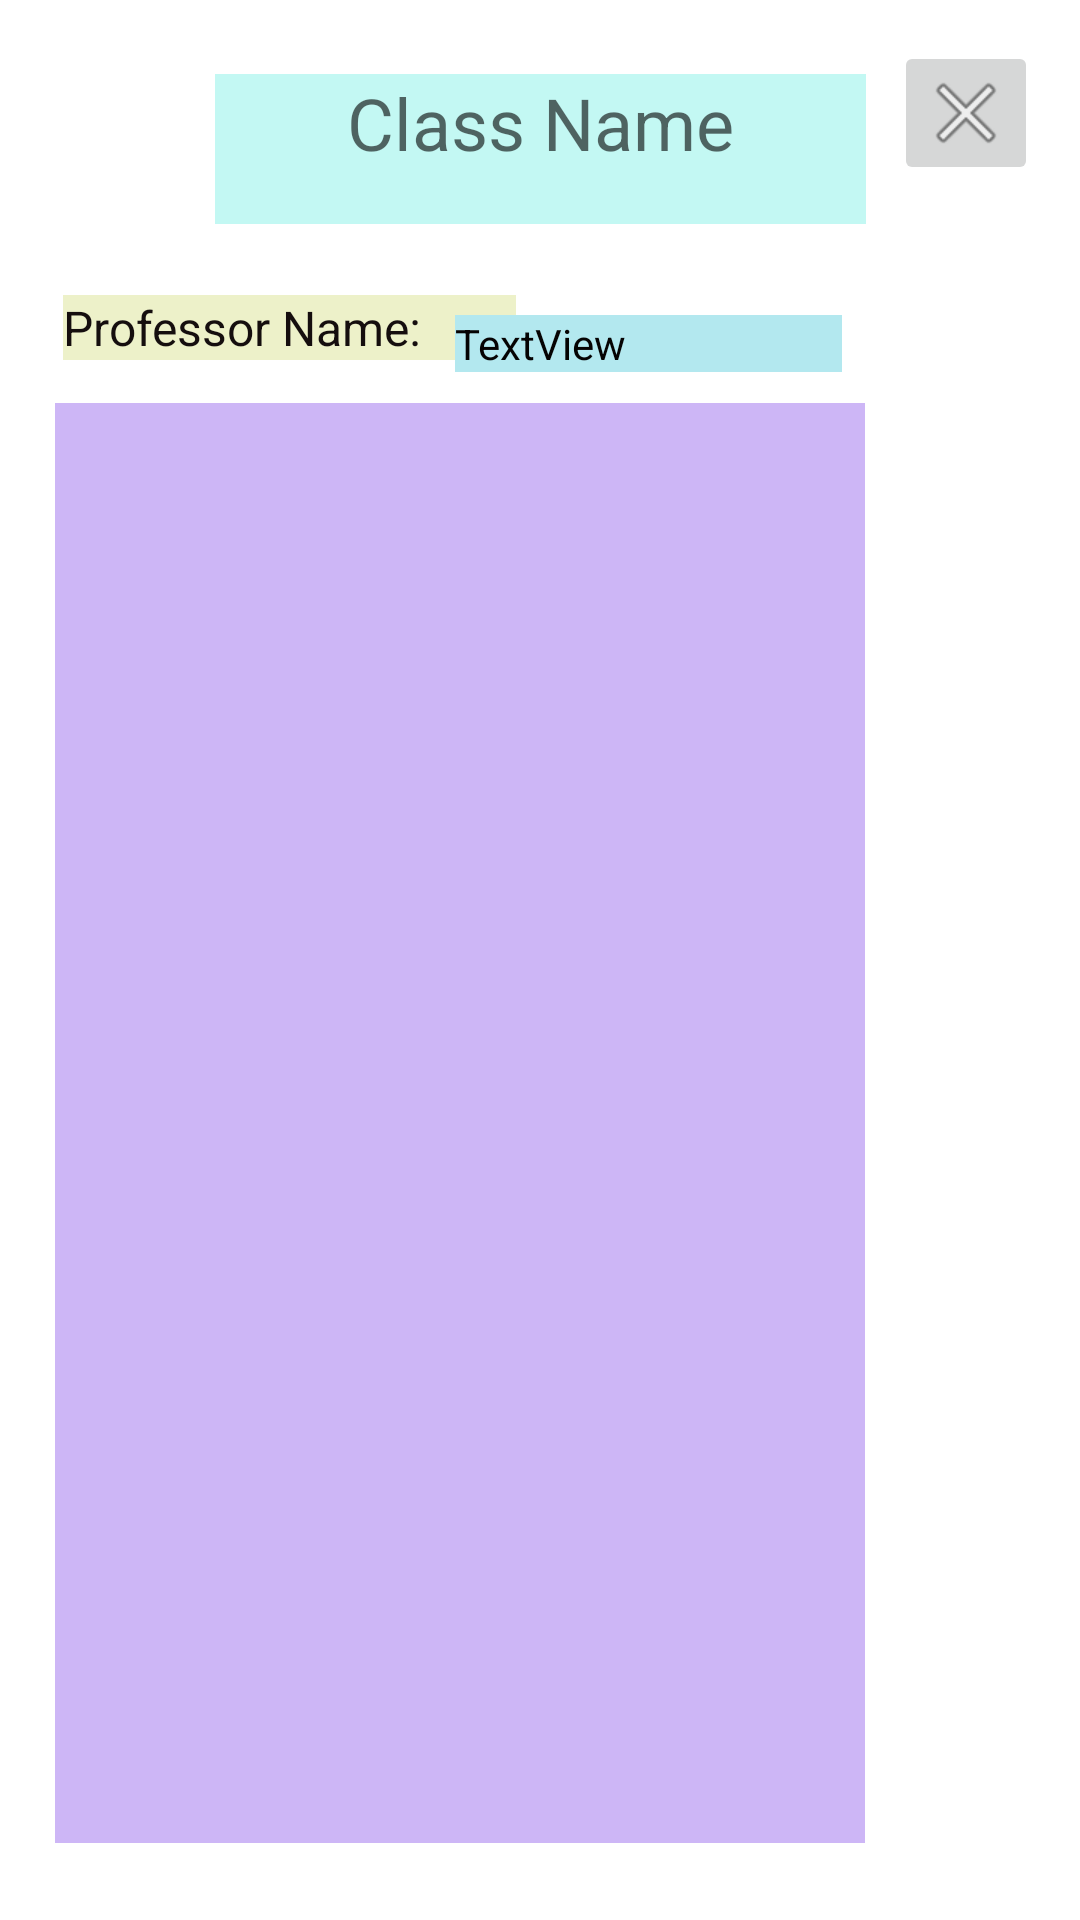

Point at icon controls on the screen. Image size 1080×1920, points as (x,y).
close clear cancel: (966,113)
